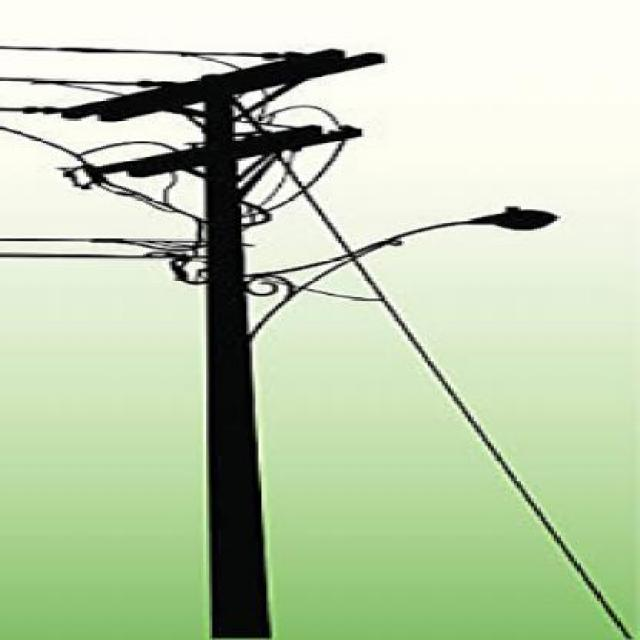pole: (45, 24, 419, 640)
